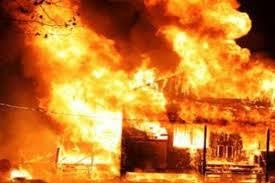fire: (20, 4, 271, 170)
